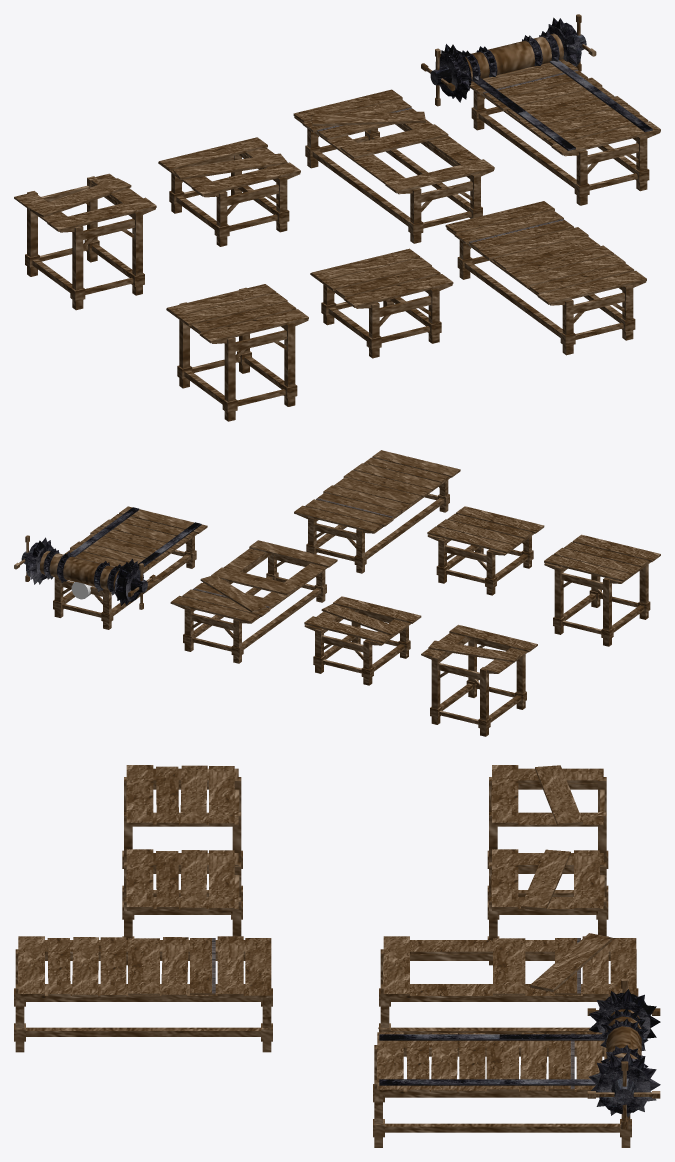
The model's file is RoomMueble.FBX.
The picture shows the model from 3 angles, top to bottom: view 1: azimuth 30°, elevation 25°; view 2: azimuth 150°, elevation 25°; view 3: azimuth 270°, elevation 25°; orthographic projection. The views are drawn at different scales.
Visible parts, largest first — view 1: Torture table, TablePoor, TablePoor005, TablePoor002, TablePoor003, TablePoor001, TablePoor004; view 2: Torture table, TablePoor, TablePoor005, TablePoor002, TablePoor003, TablePoor001, TablePoor004; view 3: Torture table, TablePoor, TablePoor005, TablePoor001, TablePoor002, TablePoor004, TablePoor003.
Part boxes in pixels (x1,y1,x2,y2): Torture table: [421, 14, 660, 205]; TablePoor: [445, 201, 646, 355]; TablePoor005: [293, 89, 494, 243]; TablePoor002: [166, 284, 308, 421]; TablePoor003: [14, 173, 156, 310]; TablePoor001: [310, 248, 453, 358]; TablePoor004: [158, 137, 300, 246]; Torture table: [14, 506, 207, 629]; TablePoor: [294, 450, 460, 573]; TablePoor005: [170, 540, 337, 663]; TablePoor002: [544, 534, 660, 646]; TablePoor003: [421, 624, 537, 736]; TablePoor001: [427, 506, 544, 595]; TablePoor004: [304, 596, 421, 685]; Torture table: [373, 978, 660, 1147]; TablePoor: [14, 936, 272, 1052]; TablePoor005: [378, 933, 638, 1034]; TablePoor001: [122, 849, 242, 965]; TablePoor002: [122, 765, 242, 901]; TablePoor004: [487, 849, 608, 965]; TablePoor003: [487, 765, 608, 901].
Size of the model in its own units: 17660 by 3423 by 14234.
Materials: 2 (2 with a texture image).
